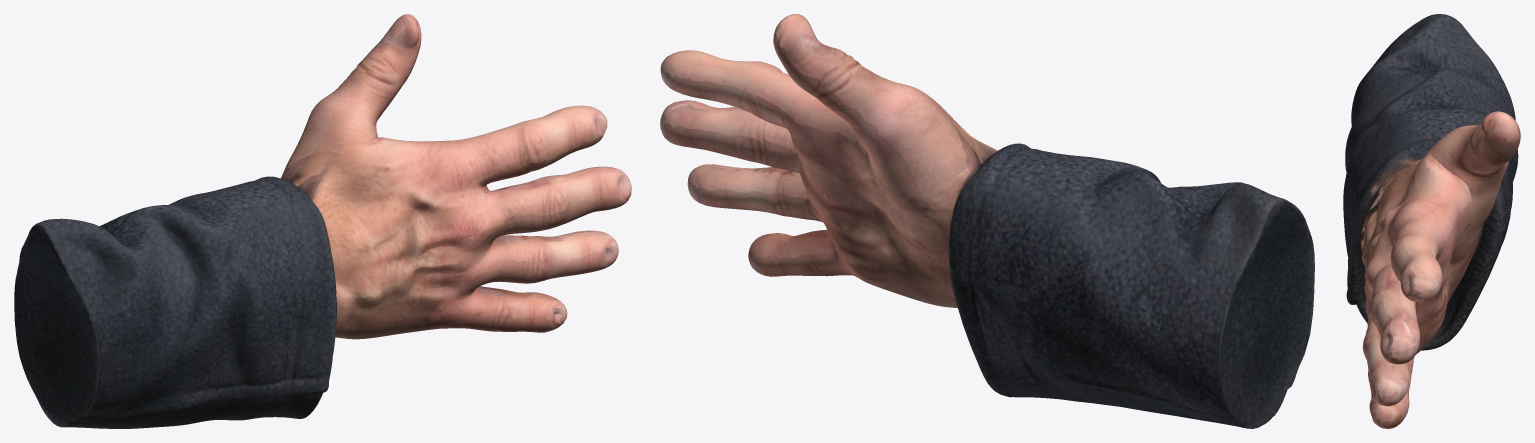
File: hand_right.glb
The picture shows the model from 3 angles, left to right: view 1: azimuth 30°, elevation 25°; view 2: azimuth 150°, elevation 25°; view 3: azimuth 270°, elevation 25°; orthographic projection. The views are drawn at different scales.
Parts seen in each view (by area): view 1: geometry_0; view 2: geometry_0; view 3: geometry_0.
Boxes of the visible parts, x1=… form: geometry_0: x1=14, y1=14, x2=631, y2=428; geometry_0: x1=660, y1=14, x2=1314, y2=428; geometry_0: x1=1343, y1=14, x2=1520, y2=428.
Bounding box in the file's own units: 0.19 × 0.1052 × 0.0541.
1 material, 1 textured.
